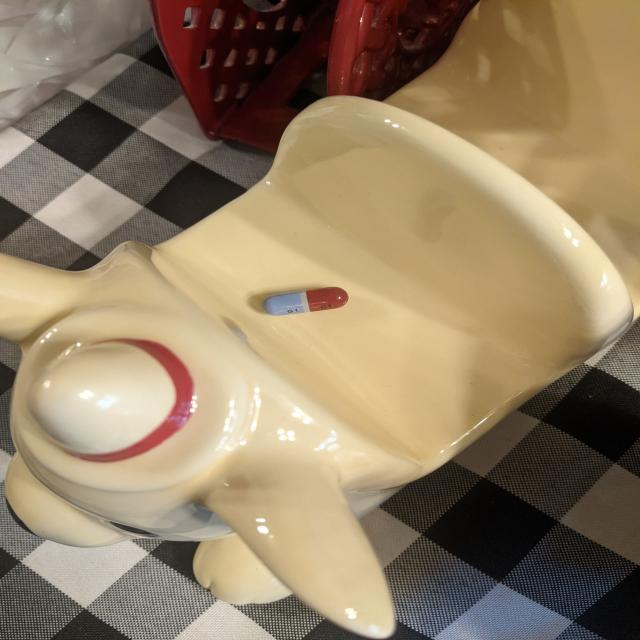non-organic waste: (261, 286, 349, 316)
